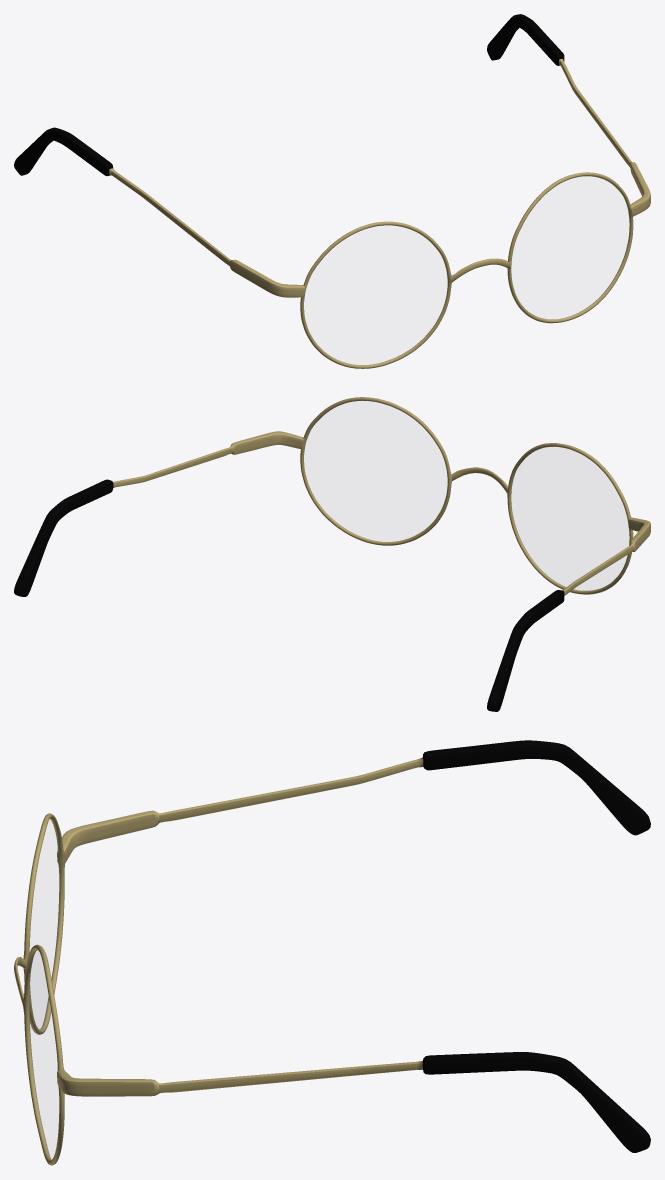
File: glasses04.glb
3 renders of one model, top to bottom at view 1: azimuth 30°, elevation 25°; view 2: azimuth 150°, elevation 25°; view 3: azimuth 270°, elevation 25°, orthographic. The views are drawn at different scales.
Parts seen in each view (by area): view 1: frame; view 2: frame; view 3: frame, glass.
Boxes of the visible parts, box(x1,y1,x2,y2) form: frame: box(14, 14, 650, 368); frame: box(14, 397, 650, 711); frame: box(14, 740, 650, 1165); glass: box(30, 950, 49, 1029).
Size of the model in its own units: 0.139 by 0.0402 by 0.1153.
